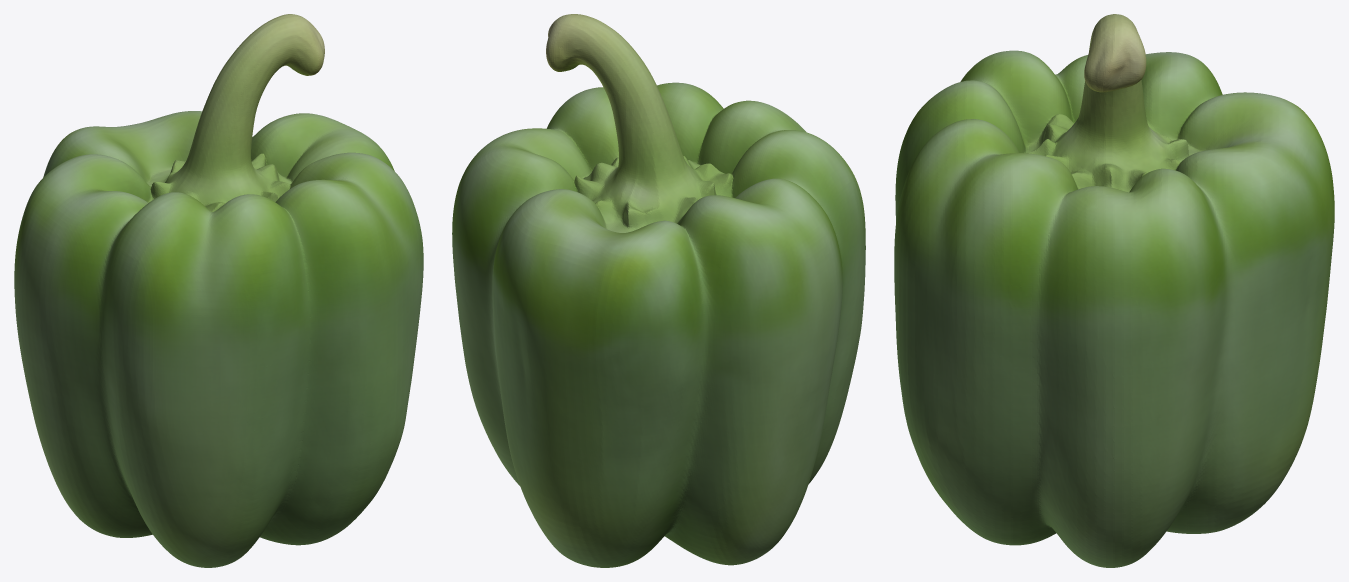
Rendered from bellpepper.glb.
The picture shows the model from 3 angles, left to right: view 1: azimuth 30°, elevation 25°; view 2: azimuth 150°, elevation 25°; view 3: azimuth 270°, elevation 25°; orthographic projection. The views are drawn at different scales.
Visible parts, largest first — view 1: world; view 2: world; view 3: world.
Part boxes in pixels (x1,y1,x2,y2): world: (14, 14, 423, 567); world: (452, 14, 865, 567); world: (894, 14, 1334, 567).
Size of the model in its own units: 0.7748 by 1 by 0.7432.
